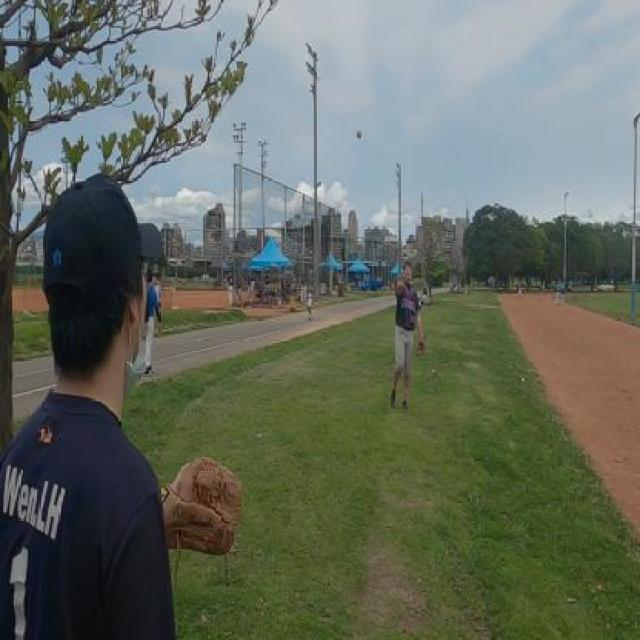baseball: (357, 130, 361, 138)
